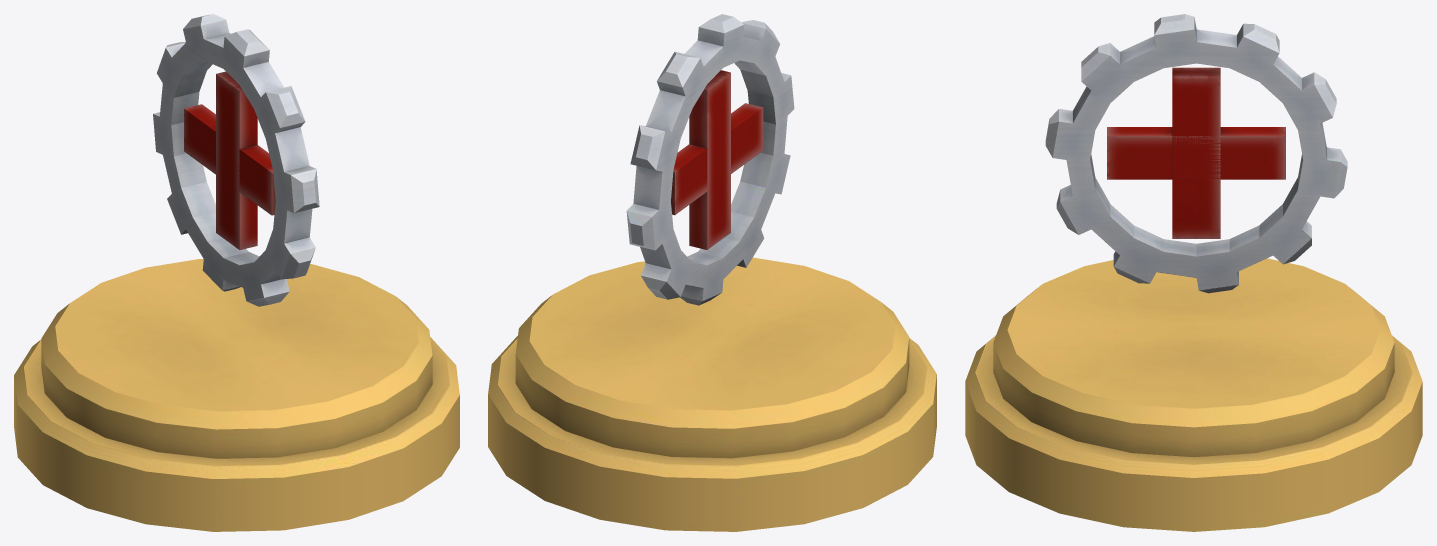
Rendered from CRUZOURO.fbx.
3 views of the same model, side by side, from view 1: azimuth 30°, elevation 25°; view 2: azimuth 150°, elevation 25°; view 3: azimuth 270°, elevation 25° (orthographic). The views are drawn at different scales.
Parts seen in each view (by area): view 1: polySurface39, polySurface41; view 2: polySurface39, polySurface41; view 3: polySurface39, polySurface41.
Part boxes in pixels (x1,y1,x2,y2): polySurface39: (14,259,459,531); polySurface41: (153,14,319,306); polySurface39: (488,257,936,531); polySurface41: (626,14,794,305); polySurface39: (965,258,1422,531); polySurface41: (1045,14,1347,293).
Size of the model in its own units: 0.4773 by 0.4821 by 0.4773.
1 material, 1 textured.
